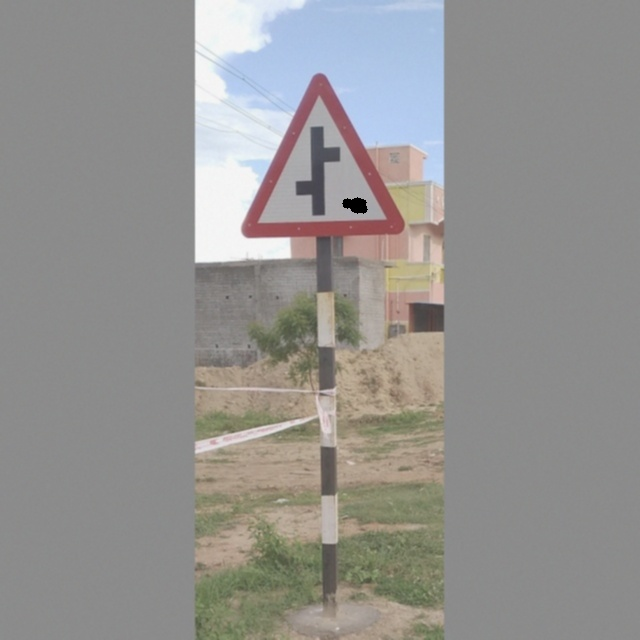Staggered_Intersection: (242, 64, 410, 246)
